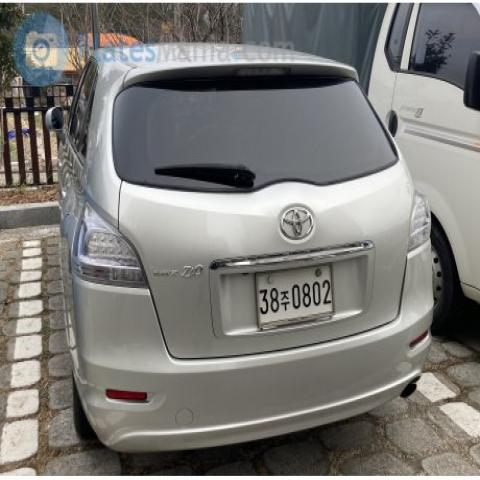LP: (241, 255, 349, 338)
